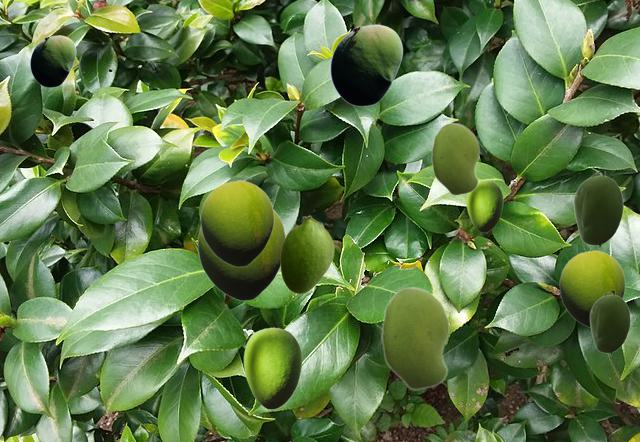green_mango: (197, 209, 285, 300), (381, 286, 449, 390), (200, 180, 273, 266), (330, 24, 402, 105), (559, 250, 624, 327), (243, 327, 301, 408), (280, 215, 333, 292), (573, 171, 622, 248), (431, 122, 479, 195), (589, 291, 629, 355), (30, 35, 75, 86), (466, 180, 502, 231)
